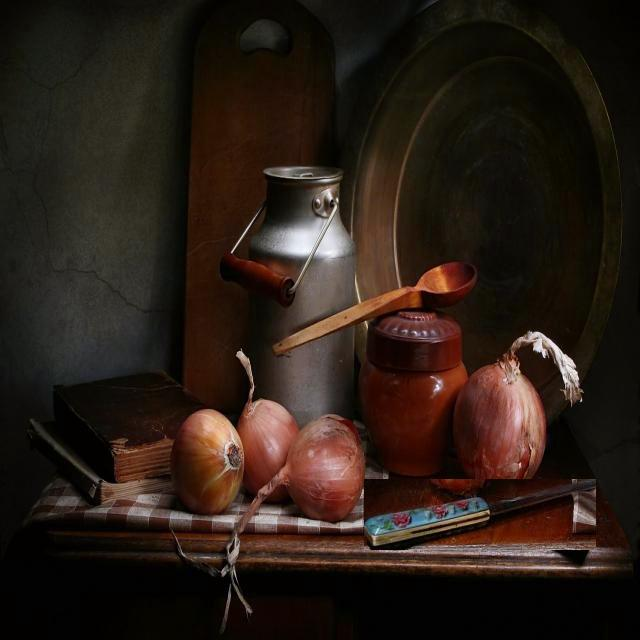Knife: (364, 480, 596, 550)
